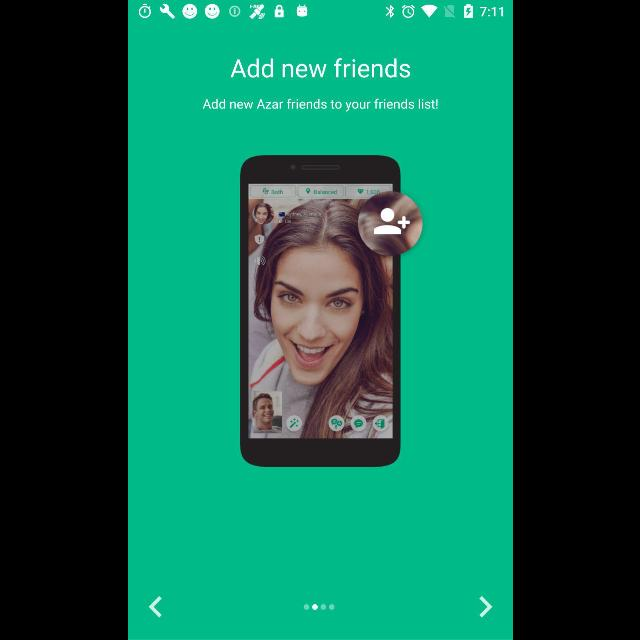icon: (478, 596, 492, 618), (148, 596, 162, 618)
image: (239, 155, 421, 467)
pageindicator: (302, 604, 334, 610)
text: (230, 58, 410, 78), (202, 98, 438, 112)
uppertaskbar: (128, 1, 512, 23)
